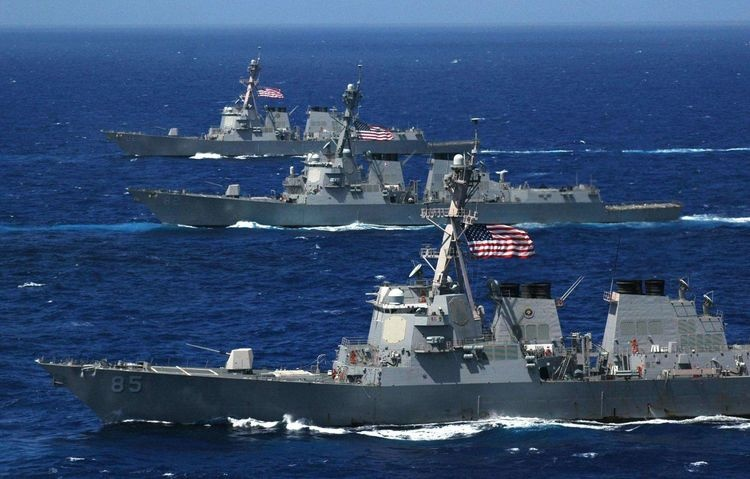warship: (35, 149, 750, 433), (115, 128, 691, 240), (93, 49, 485, 166)
